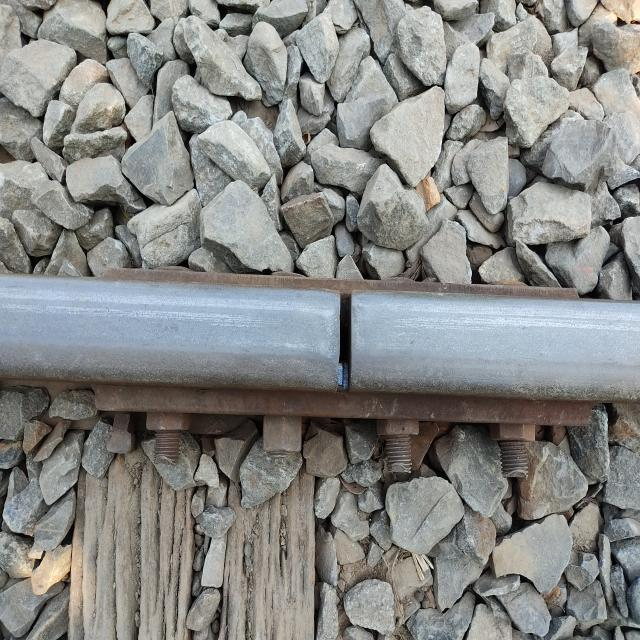Faults: (328, 282, 365, 401)
